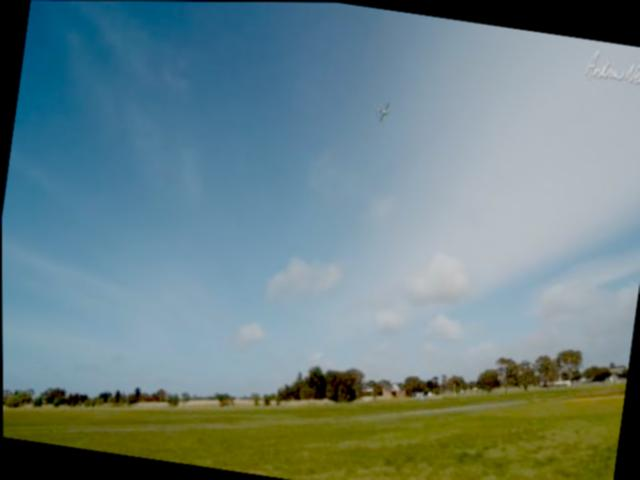uav: (371, 94, 395, 128)
